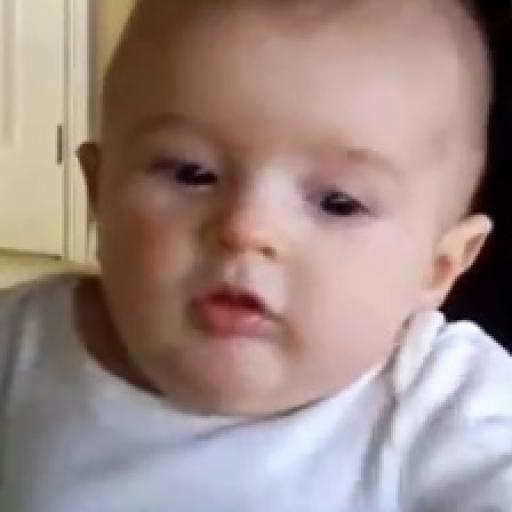Autism: (140, 8, 470, 382)
